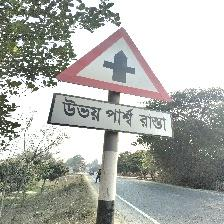Crossroad: (46, 24, 180, 146)
